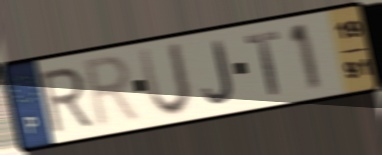1: (288, 21, 324, 94)
J: (201, 37, 236, 106)
R: (82, 52, 145, 133), (37, 64, 95, 136)
T: (243, 28, 282, 98)
U: (135, 39, 195, 120)
